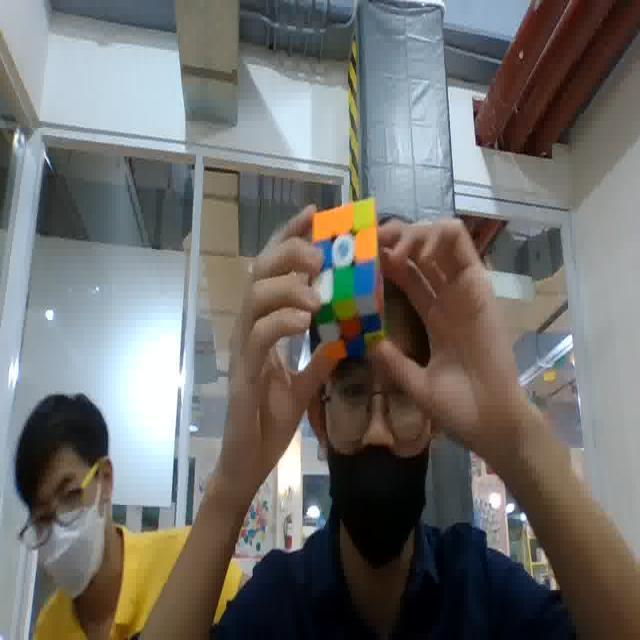Rub: (308, 195, 387, 355)
